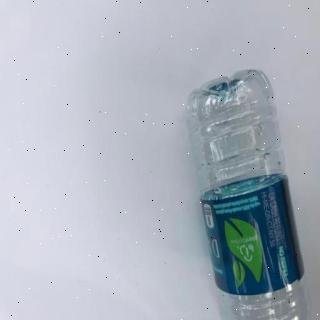Plastic-bottle: (183, 65, 313, 320)
